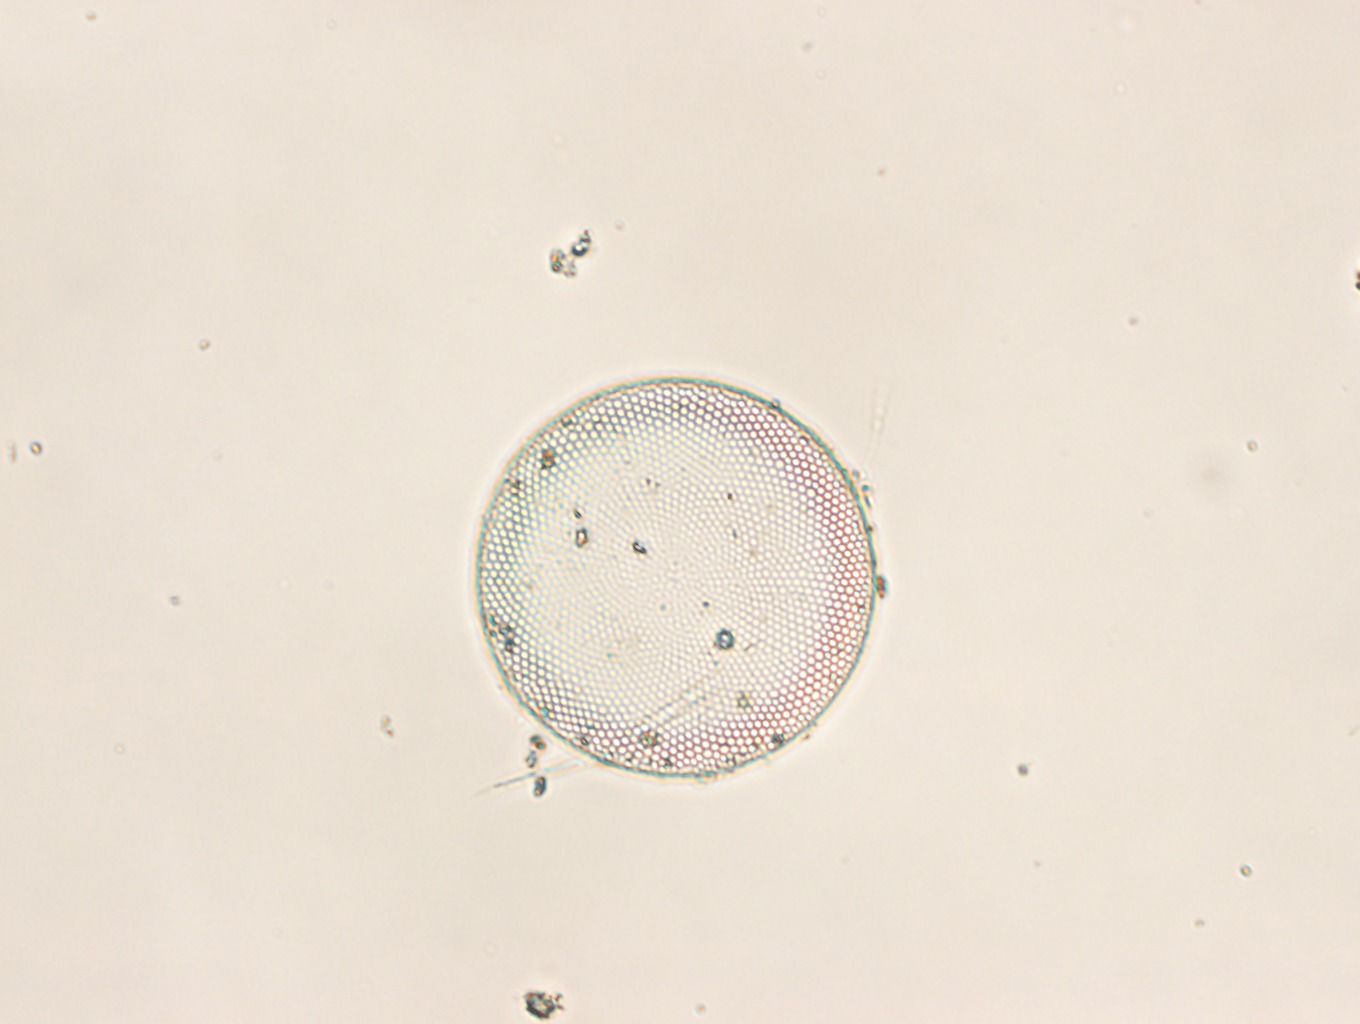coscinodiscus: (475, 375, 879, 777)
